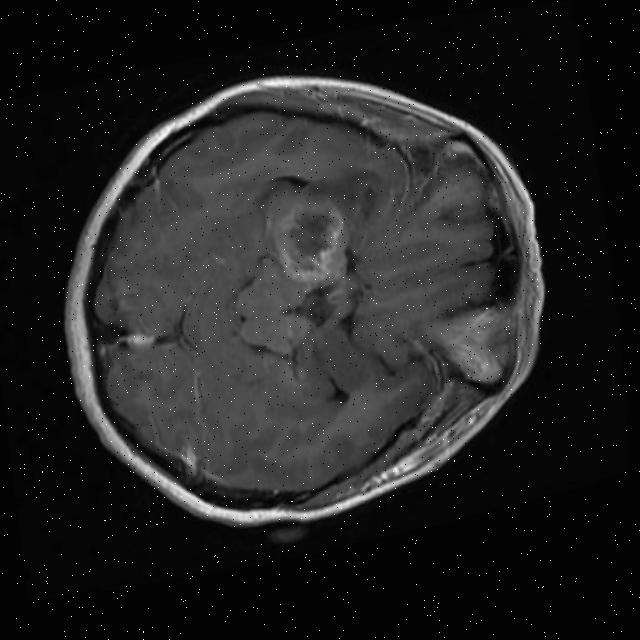Glioma: (265, 191, 351, 292)
